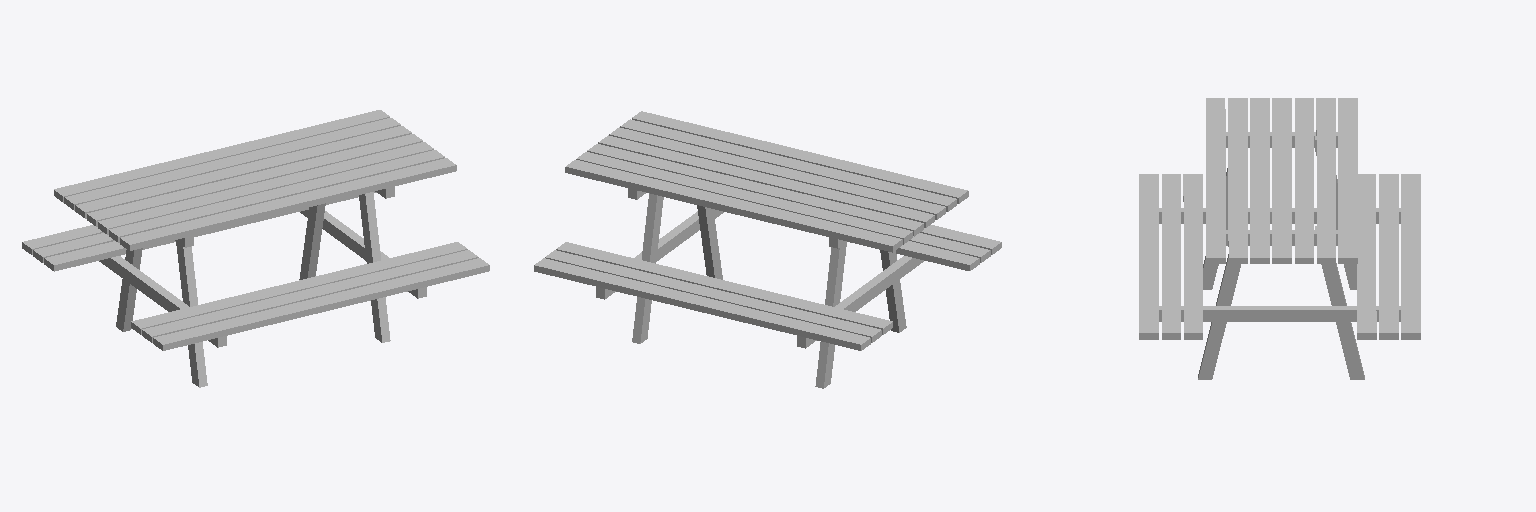
The model's file is WoodBench.obj.
The picture shows the model from 3 angles: view 1: azimuth 30°, elevation 25°; view 2: azimuth 150°, elevation 25°; view 3: azimuth 270°, elevation 25°; orthographic projection.
Parts seen in each view (by area): view 1: WoodenBench; view 2: WoodenBench; view 3: WoodenBench.
Part boxes in pixels (left/top/right/bottom): WoodenBench: left=22, top=110, right=489, bottom=387; WoodenBench: left=534, top=111, right=1001, bottom=388; WoodenBench: left=1139, top=98, right=1420, bottom=379.
Bounding box in the file's own units: 5.3 × 2.42 × 3.95.